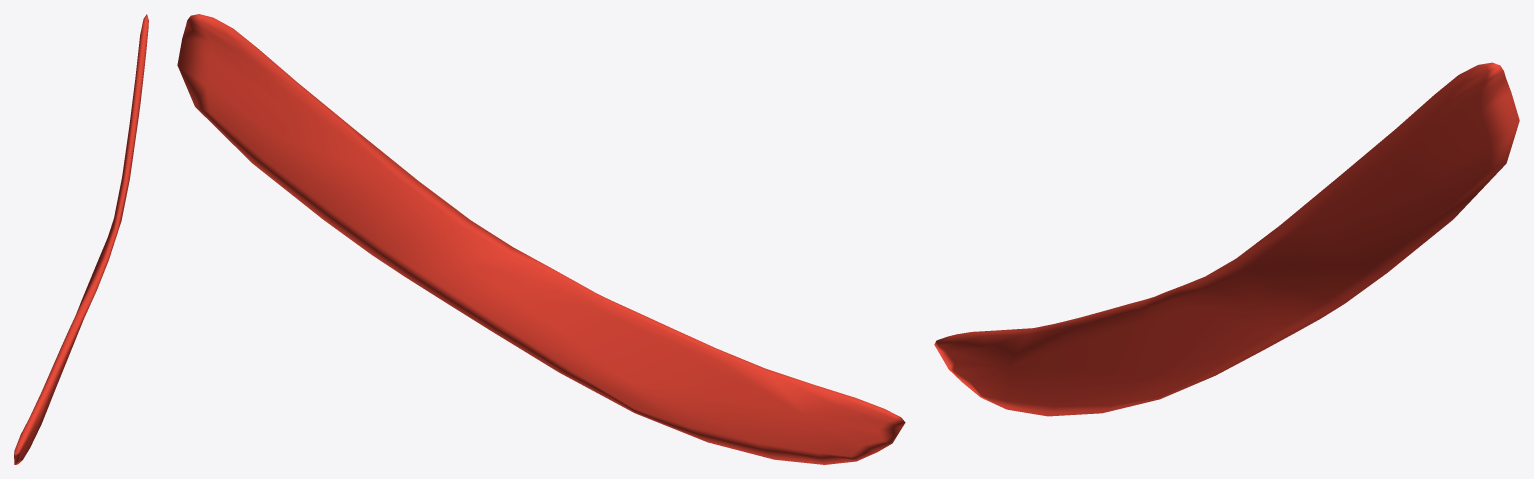
File: Depressor_labii_superioris-_Insertion.l_Generated_Mesh_From_X3D.glb
The picture shows the model from 3 angles, left to right: view 1: azimuth 30°, elevation 25°; view 2: azimuth 150°, elevation 25°; view 3: azimuth 270°, elevation 25°; orthographic projection. The views are drawn at different scales.
Parts seen in each view (by area): view 1: Depressor_labii_superioris-_Insertion.l_Generated_Mesh_From_; view 2: Depressor_labii_superioris-_Insertion.l_Generated_Mesh_From_; view 3: Depressor_labii_superioris-_Insertion.l_Generated_Mesh_From_.
Part boxes in pixels (x1,y1,x2,y2): Depressor_labii_superioris-_Insertion.l_Generated_Mesh_From_: [14, 14, 148, 464]; Depressor_labii_superioris-_Insertion.l_Generated_Mesh_From_: [177, 14, 905, 464]; Depressor_labii_superioris-_Insertion.l_Generated_Mesh_From_: [934, 62, 1519, 416].
Bounding box in the file's own units: 0.0182 × 0.0183 × 0.0166.
